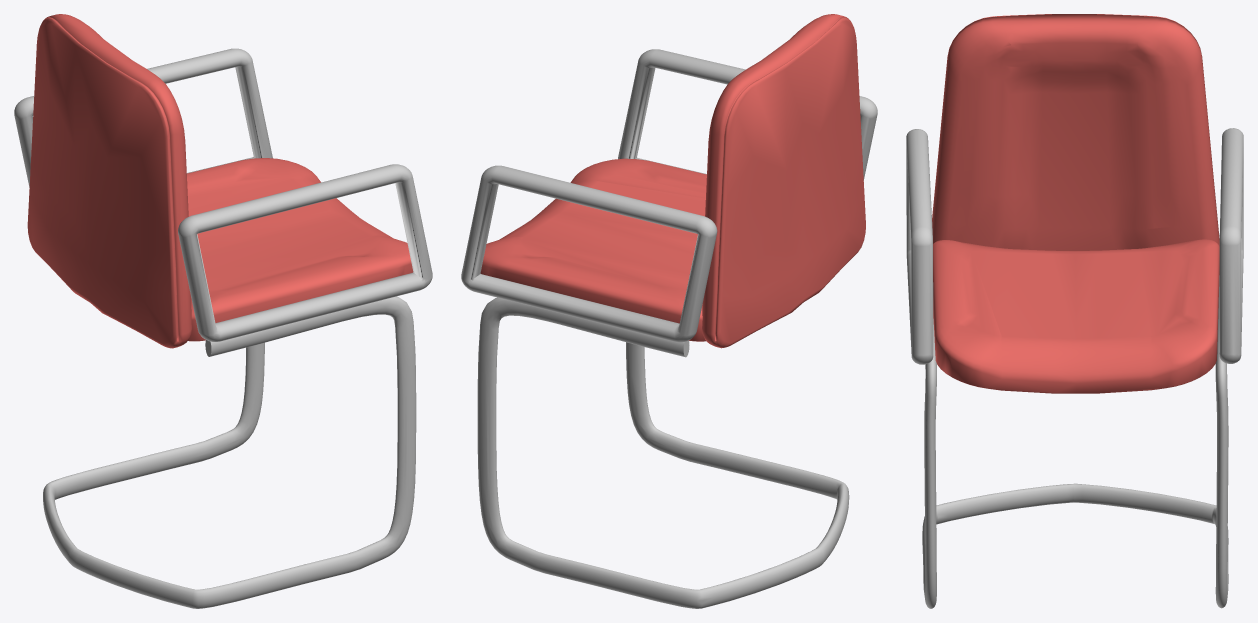
Rendered from lib_chair.fbx.
The picture shows the model from 3 angles, left to right: view 1: azimuth 30°, elevation 25°; view 2: azimuth 150°, elevation 25°; view 3: azimuth 270°, elevation 25°; orthographic projection. The views are drawn at different scales.
Parts seen in each view (by area): view 1: chair_LOD0; view 2: chair_LOD0; view 3: chair_LOD0.
Part boxes in pixels (<box>): chair_LOD0: <box>14,14,432,608</box>; chair_LOD0: <box>461,14,877,608</box>; chair_LOD0: <box>906,14,1243,608</box>.
Size of what is drawn, in the model's own units: 51.13 by 83.26 by 51.29.
